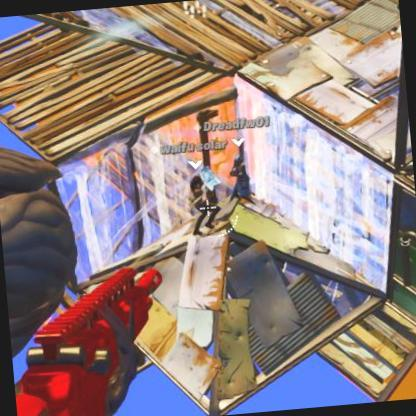person: (190, 176, 218, 234), (234, 154, 250, 206)
